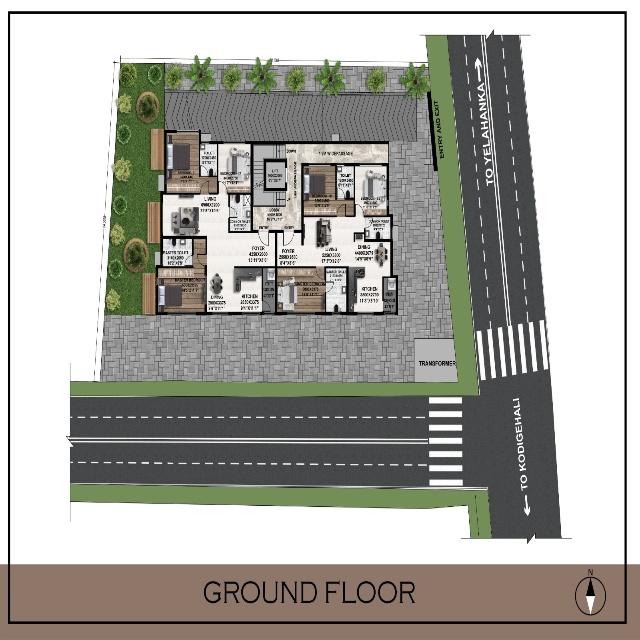door: (257, 231, 270, 246), (283, 232, 294, 247), (354, 203, 365, 217), (218, 180, 228, 194), (200, 181, 210, 194), (315, 267, 325, 280), (336, 203, 346, 216), (197, 253, 206, 267), (200, 164, 209, 177), (229, 206, 238, 219), (262, 300, 271, 313), (325, 281, 334, 293), (336, 187, 345, 199), (184, 255, 193, 266), (383, 300, 391, 312), (365, 217, 373, 229)
